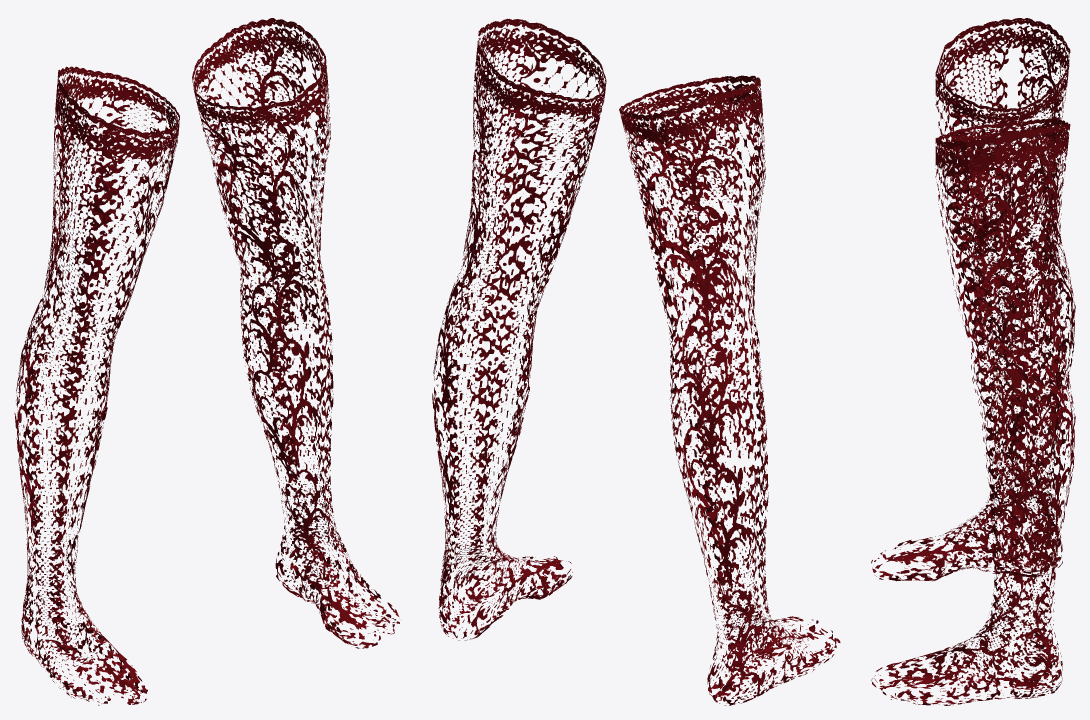
Rendered from mhw_marco_105_stocking01.glb.
3 views of the same model, side by side, from view 1: azimuth 30°, elevation 25°; view 2: azimuth 150°, elevation 25°; view 3: azimuth 270°, elevation 25° (orthographic). The views are drawn at different scales.
Parts seen in each view (by area): view 1: mhw_marco_105_stocking01; view 2: mhw_marco_105_stocking01; view 3: mhw_marco_105_stocking01.
Boxes of the visible parts, <box> form: mhw_marco_105_stocking01: <box>14,18,399,705</box>; mhw_marco_105_stocking01: <box>432,18,840,705</box>; mhw_marco_105_stocking01: <box>871,18,1075,705</box>.
Size of the model in its own units: 0.5387 by 0.9033 by 0.2983.
Materials: 1 (1 with a texture image).
